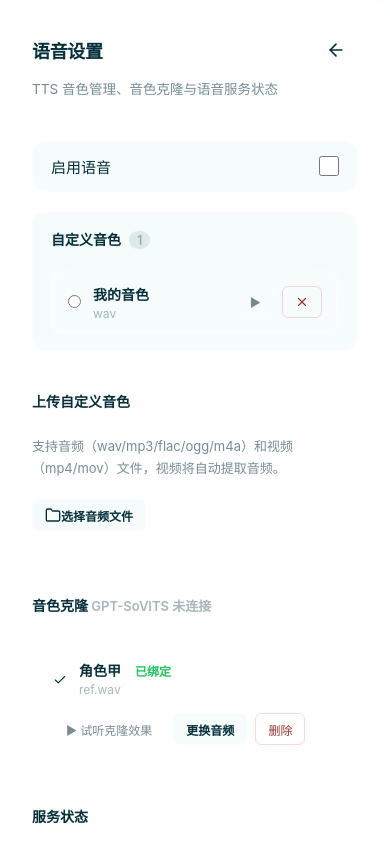
Test: VoicePanel 删除：确认框是唯一落点 › 点确认后 DELETE 只发一次
Check: the list item "我的音色 wav ▶" is shown, box [51,271,339,334]
Click the 3rd button.
click(302, 302)  # box [282,286,322,318]
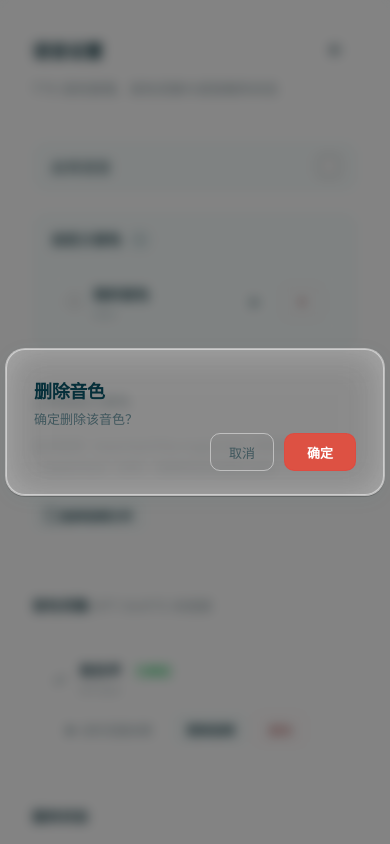
Click the button "确定".
click(320, 452)  # box [284,433,356,471]
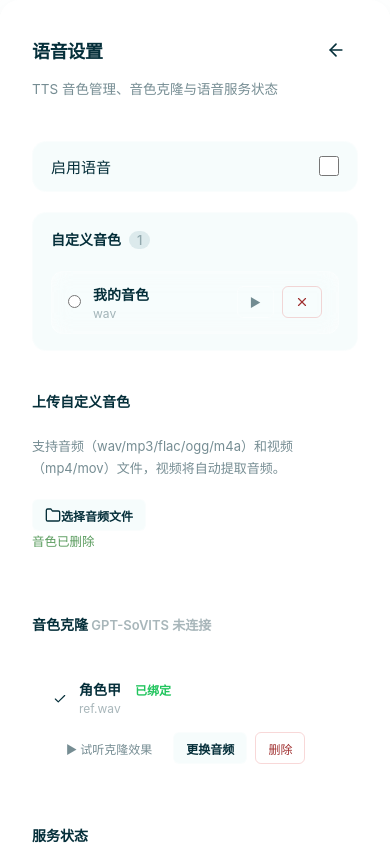
Check: the heading with class "modal-title" is gone
